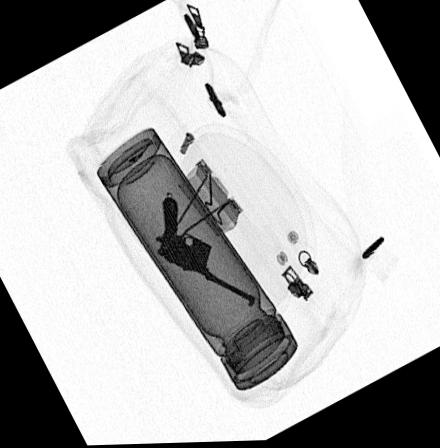Gun: (152, 196, 255, 313)
